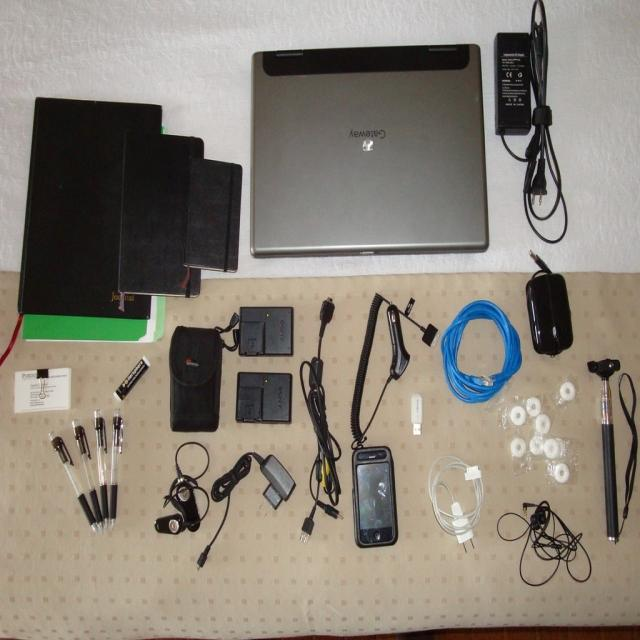Cable: (486, 10, 592, 240), (354, 287, 524, 428), (151, 437, 302, 588), (497, 496, 603, 625), (300, 297, 347, 538), (418, 462, 485, 564)
E-waste: (23, 28, 480, 300), (114, 308, 302, 428)
